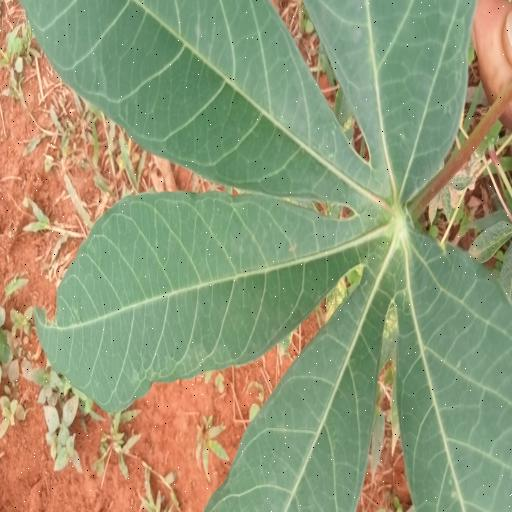Cassava_Healthy: (19, 3, 511, 512)
